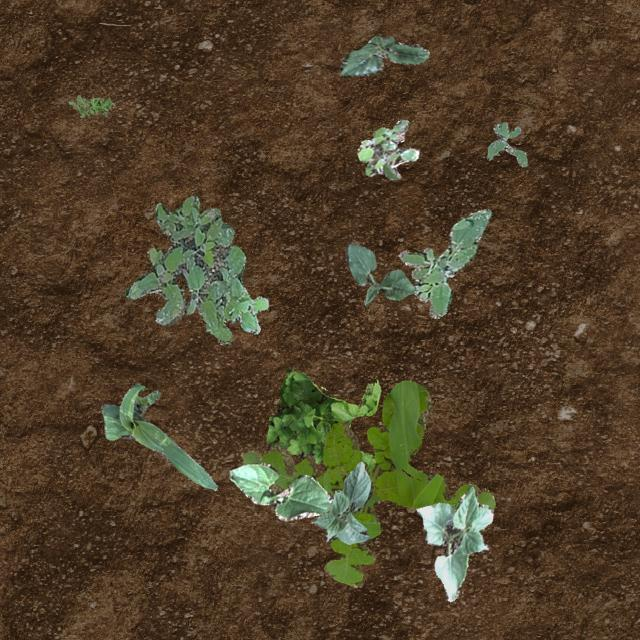crop: (100, 382, 216, 490), (416, 486, 492, 600), (228, 460, 332, 520), (310, 461, 372, 544), (344, 242, 414, 306), (338, 34, 428, 76)
weed: (240, 379, 494, 586), (124, 194, 266, 340), (264, 366, 380, 471), (398, 208, 490, 318), (357, 118, 418, 178), (486, 120, 526, 166), (68, 95, 114, 116)
